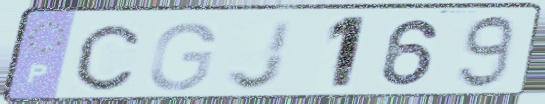1: (320, 13, 369, 95)
6: (378, 17, 442, 90)
9: (451, 12, 519, 93)
C: (73, 21, 144, 93)
G: (145, 19, 219, 94)
J: (223, 18, 297, 93)
